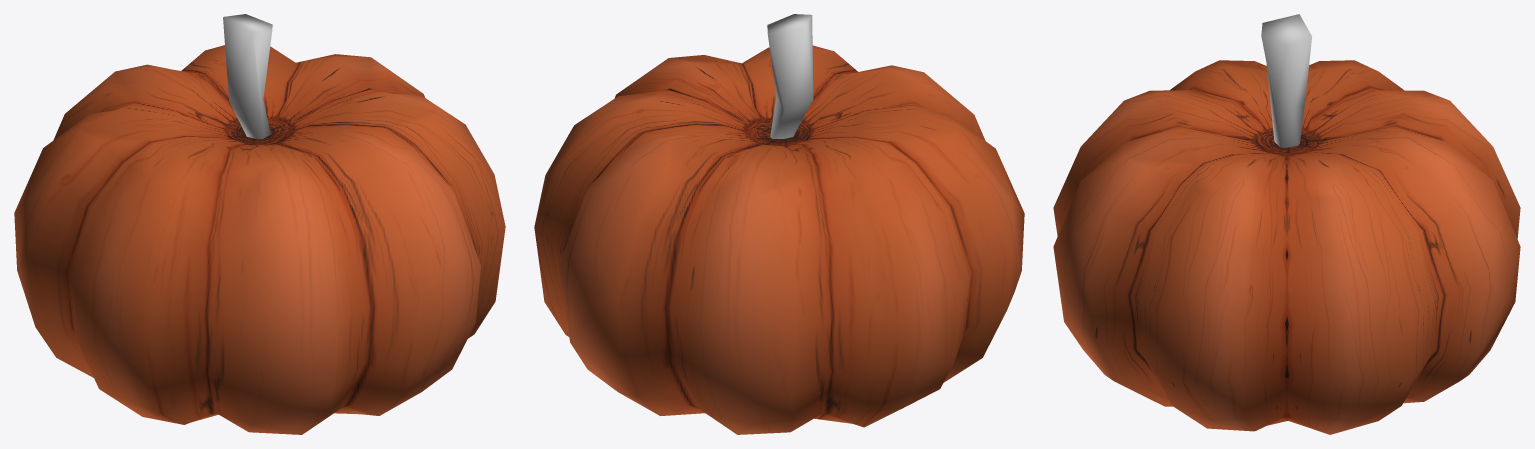
The model's file is calabazaLOD2.fbx.
3 views of the same model, side by side, from view 1: azimuth 30°, elevation 25°; view 2: azimuth 150°, elevation 25°; view 3: azimuth 270°, elevation 25° (orthographic). The views are drawn at different scales.
Visible parts, largest first — view 1: Esfera.001, Esfera; view 2: Esfera.001, Esfera; view 3: Esfera.001, Esfera.
Boxes of the visible parts, box(x1,y1,x2,y2) form: Esfera.001: box(14, 45, 505, 434); Esfera: box(223, 14, 272, 139); Esfera.001: box(534, 45, 1024, 434); Esfera: box(767, 14, 813, 138); Esfera.001: box(1053, 60, 1520, 434); Esfera: box(1261, 14, 1312, 147).
Bounding box in the file's own units: 150 × 124 × 150.
